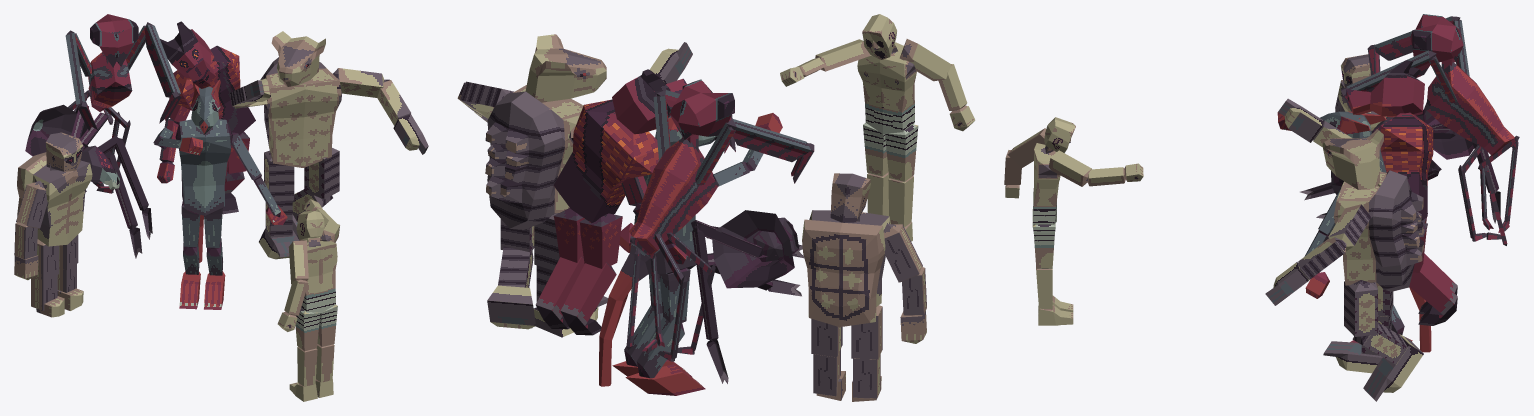
The model's file is new_box_art2.glb.
3 renders of one model, left to right at view 1: azimuth 30°, elevation 25°; view 2: azimuth 150°, elevation 25°; view 3: azimuth 270°, elevation 25°, orthographic. The views are drawn at different scales.
Parts seen in each view (by area): view 1: Cube.496, Cube.522, Cube.532, Cube.485, Cube.486, Cube.478, Cube.494, Cube.579, Cube.578, Cube.549, Cube.519, Cube.534 (+43 smaller); view 2: Cube.496, Cube.532, Cube.485, Cube.579, Cube.549, Cube.478, Cube.494, Cube.522, Cube.578, Cube.486, Cube.491, Cube.490 (+40 smaller); view 3: Cube.496, Cube.579, Cube.485, Cube.486, Cube.494, Cube.578, Cube.519, Cube.478, Cube.524, Cube.516, Cube.500, Cube.521 (+20 smaller).
Boxes of the visible parts, left/top/right/bottom form: Cube.496: left=260, top=57, right=341, bottom=167; Cube.522: left=175, top=119, right=232, bottom=262; Cube.532: left=17, top=152, right=92, bottom=246; Cube.485: left=169, top=45, right=255, bottom=135; Cube.486: left=160, top=21, right=216, bottom=88; Cube.478: left=301, top=241, right=337, bottom=312; Cube.494: left=271, top=31, right=325, bottom=86; Cube.579: left=88, top=52, right=132, bottom=111; Cube.578: left=90, top=14, right=138, bottom=67; Cube.549: left=25, top=104, right=88, bottom=156; Cube.519: left=304, top=148, right=339, bottom=199; Cube.534: left=45, top=132, right=82, bottom=171; Cube.496: left=485, top=85, right=583, bottom=229; Cube.532: left=802, top=210, right=890, bottom=327; Cube.485: left=553, top=99, right=658, bottom=223; Cube.579: left=629, top=138, right=718, bottom=255; Cube.549: left=712, top=210, right=799, bottom=288; Cube.478: left=857, top=42, right=916, bottom=134; Cube.494: left=525, top=34, right=606, bottom=102; Cube.522: left=599, top=160, right=696, bottom=386; Cube.578: left=669, top=79, right=734, bottom=139; Cube.486: left=612, top=69, right=686, bottom=134; Cube.491: left=560, top=262, right=616, bottom=335; Cube.490: left=579, top=213, right=622, bottom=268; Cube.496: left=1333, top=170, right=1424, bottom=291; Cube.579: left=1426, top=62, right=1514, bottom=155; Cube.485: left=1380, top=112, right=1433, bottom=220; Cube.486: left=1346, top=60, right=1424, bottom=117; Cube.494: left=1322, top=129, right=1383, bottom=189; Cube.578: left=1410, top=14, right=1463, bottom=62; Cube.519: left=1344, top=280, right=1377, bottom=336; Cube.478: left=1033, top=143, right=1060, bottom=224; Cube.524: left=1409, top=263, right=1457, bottom=325; Cube.516: left=1363, top=334, right=1423, bottom=401; Cube.500: left=1323, top=341, right=1382, bottom=373; Cube.521: left=1352, top=322, right=1407, bottom=364.
Bounding box in the file's own units: 24.38 × 16.64 × 26.01.
Materials: 26 (26 with a texture image).
